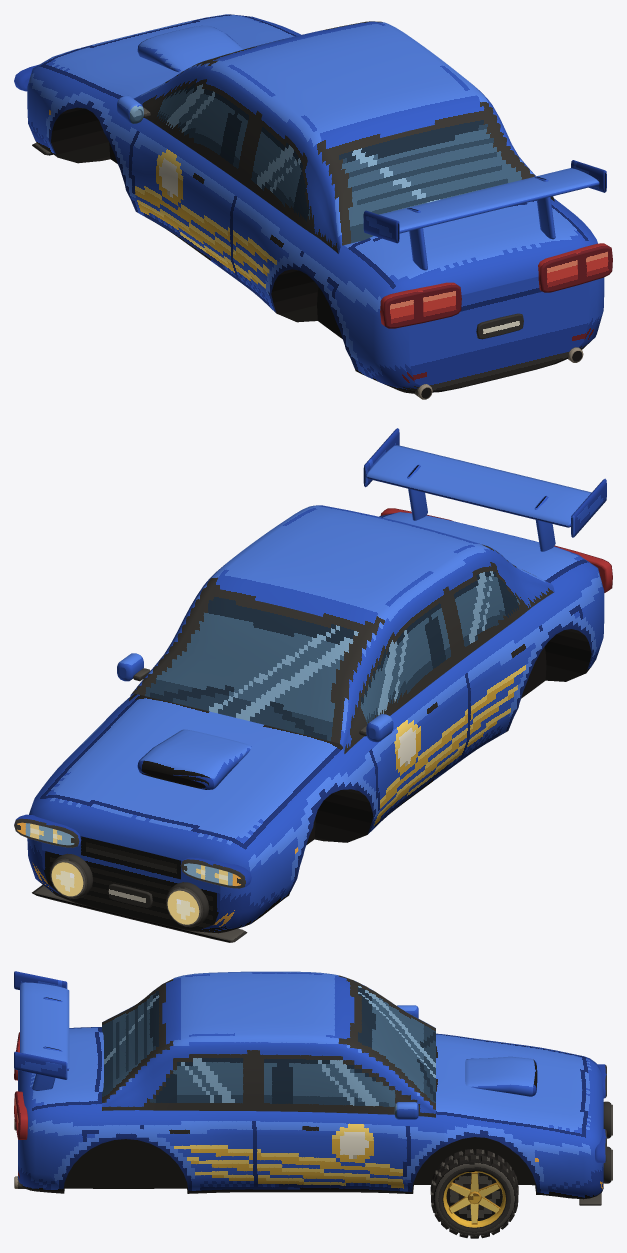
Rendered from wrx.glb.
The picture shows the model from 3 angles, top to bottom: view 1: azimuth 30°, elevation 25°; view 2: azimuth 150°, elevation 25°; view 3: azimuth 270°, elevation 25°; orthographic projection. The views are drawn at different scales.
Visible parts, largest first — view 1: Body; view 2: Body; view 3: Body, Wheel.
Boxes of the visible parts, left/top/right/bottom form: Body: left=14, top=14, right=612, bottom=399; Body: left=14, top=428, right=612, bottom=942; Body: left=14, top=971, right=612, bottom=1205; Wheel: left=430, top=1149, right=518, bottom=1238.
Size of the model in its own units: 1.83 by 1.57 by 4.5.
5 materials, 5 textured.
